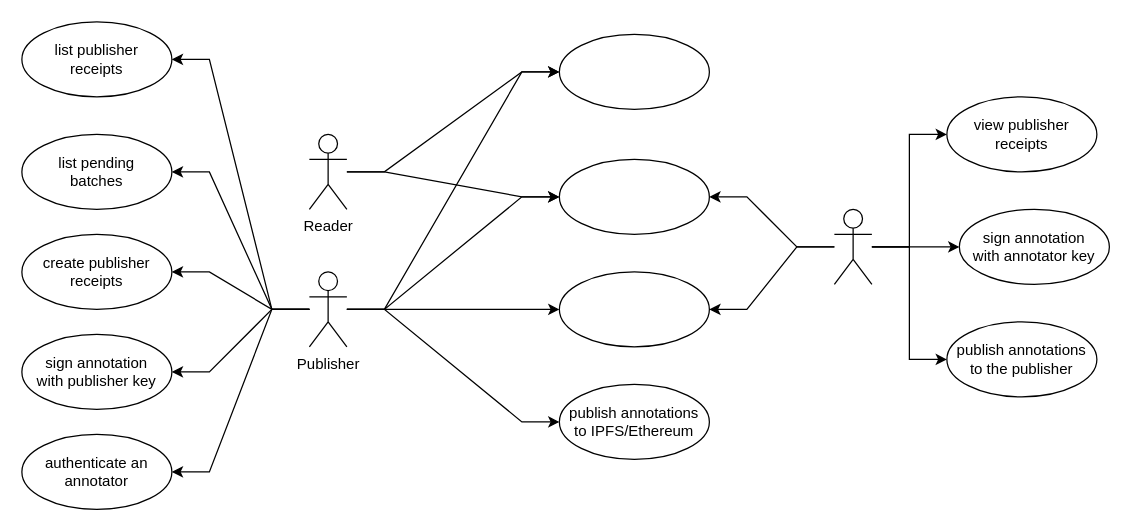
The diagram is 1131 pixels wide and 531 high, and some of its shapes have lost their labels. Here are the shapes that lost their labels. From the top down, the box of each, then its label:
(558, 33, 709, 109): verify annotation integrity
(558, 158, 709, 234): list and filter annotations
(833, 208, 872, 284): Annotator
(558, 271, 709, 347): generate new key pair
